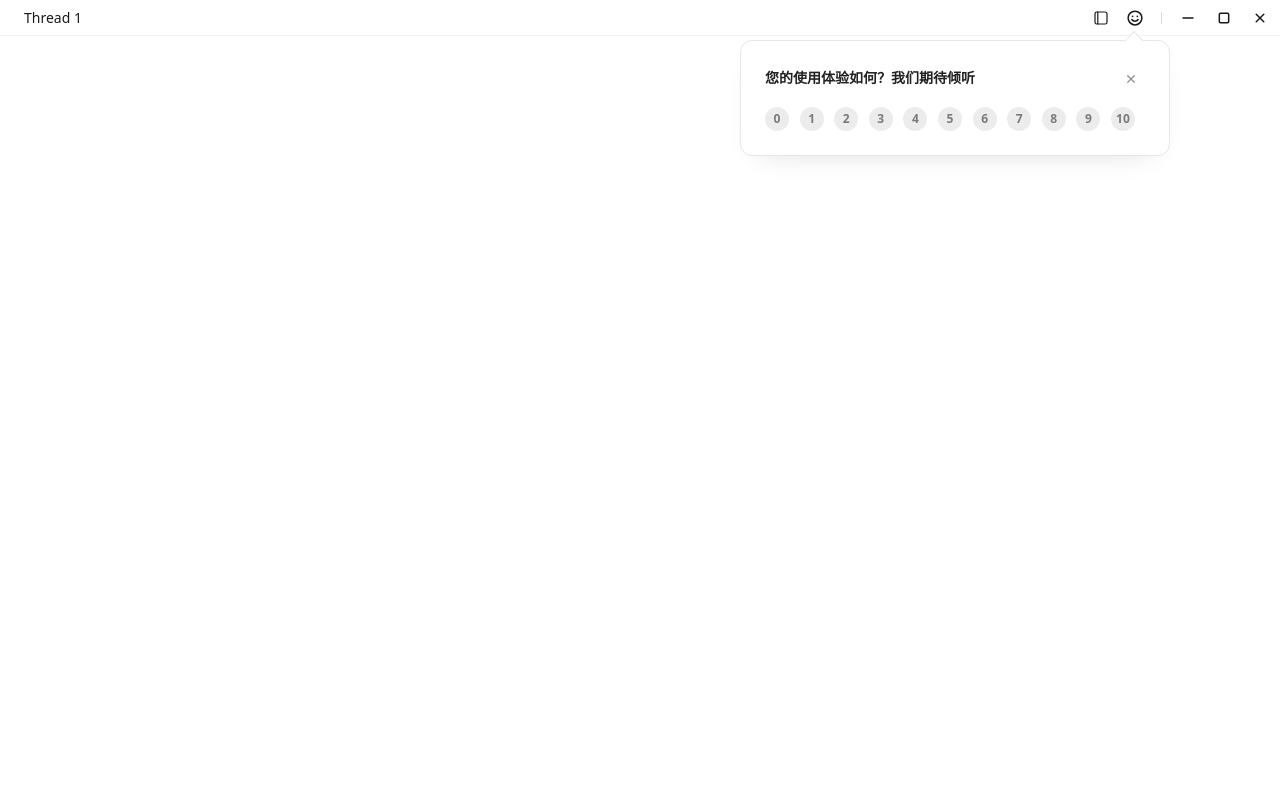
Test case: RightContentHeader feedback popover › uses shared input styles for the detail textarea and other issue input
The width and height of the screenshot is (1280, 800).
Expected: the dialog is shown, [740,40,1170,156]
Click the button "6" at (985, 118), box [973,106,997,130]
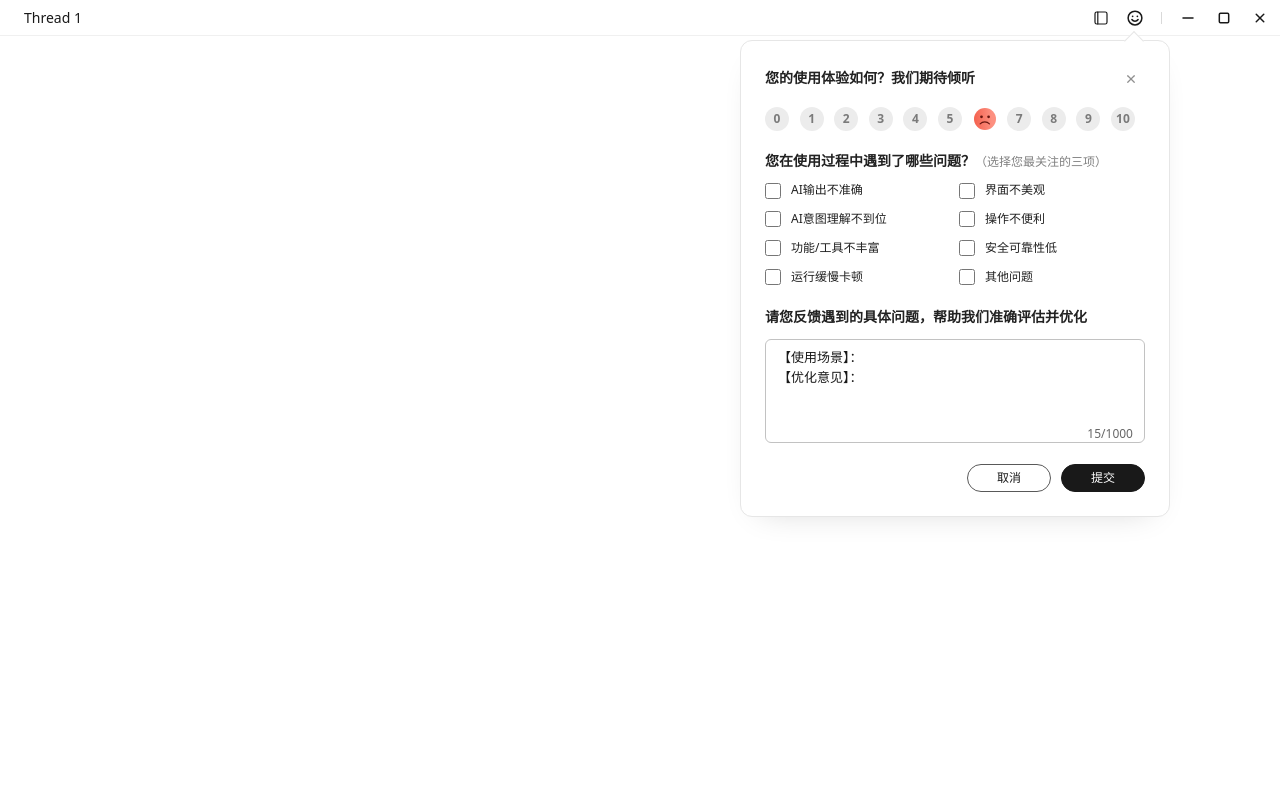
Expected: the text box is shown, [765,339,1145,443]
Expected: the checkbox labelled "其他问题" is shown
Click the checkbox labelled "其他问题" at (967, 277), box [959,269,975,285]
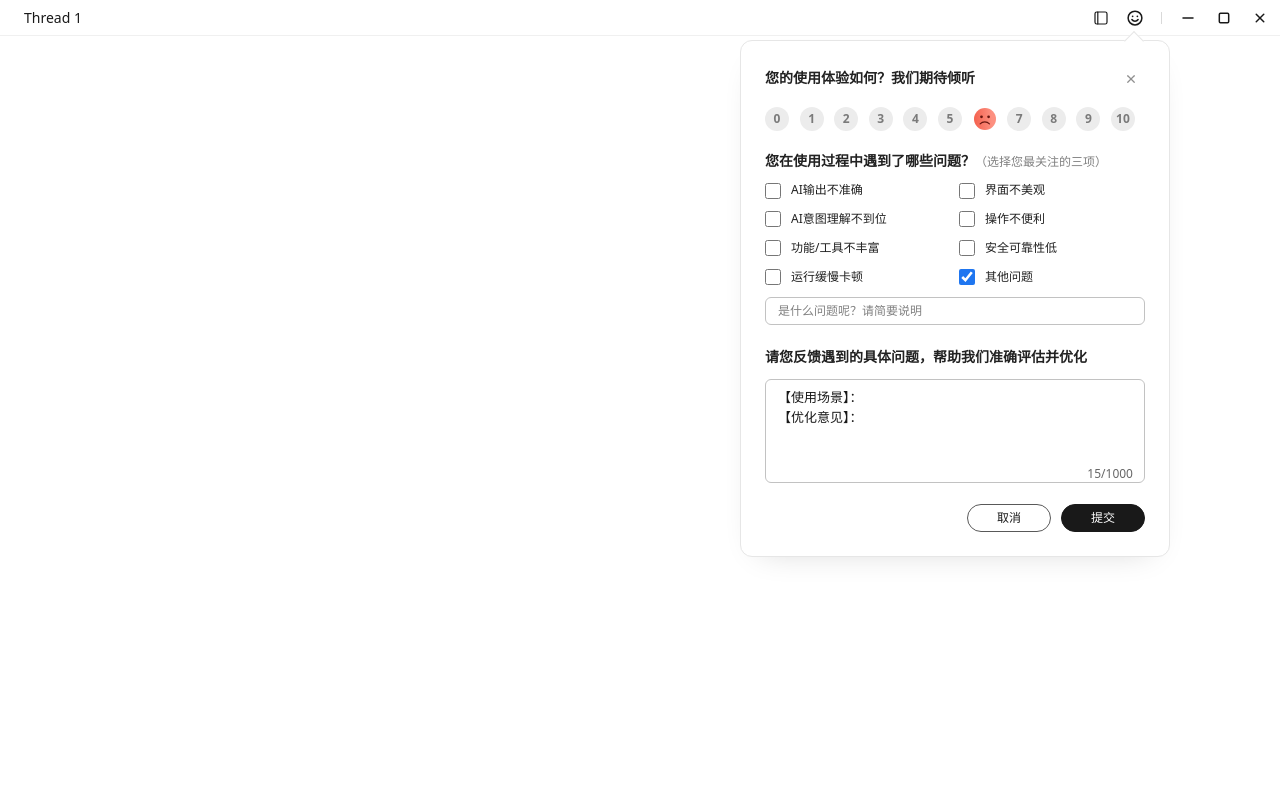
Expected: the button "取消" is shown, [967,504,1051,532]
Expected: the button "提交" is shown, [1061,504,1145,532]
Expected: the field is shown, [765,298,1145,326]
